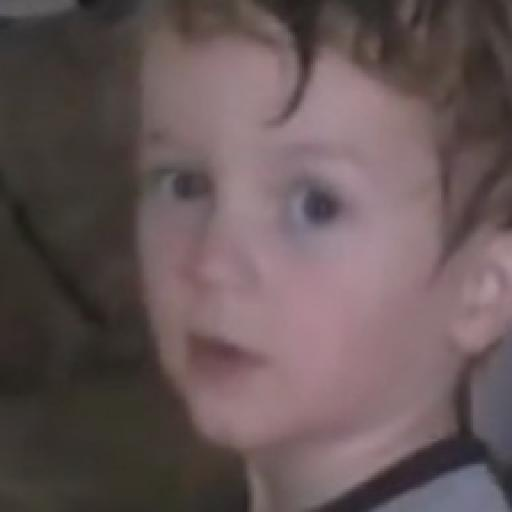Autism: (79, 30, 512, 492)
